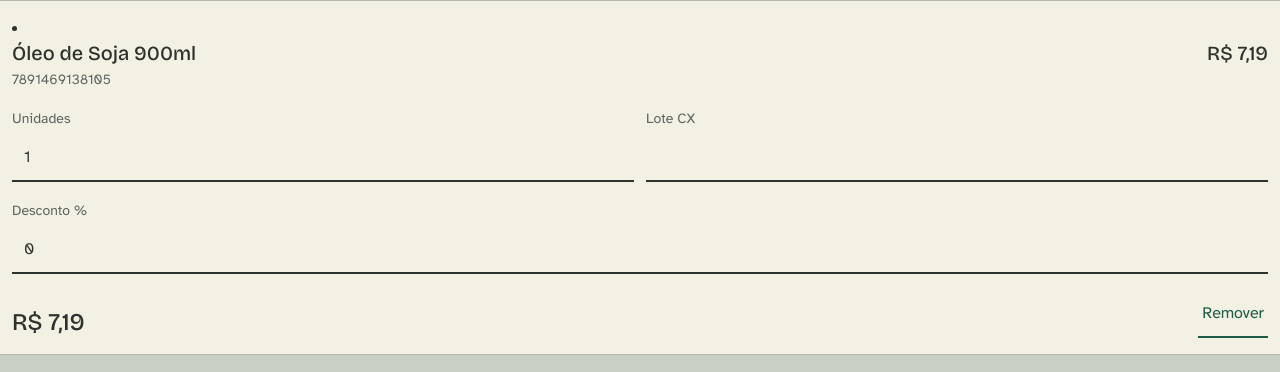
Test: CartLine › P004: 7 un deixa Lote vazio; 20 un preenche 1 CX; Lote 2 preenche 40 un
Replace the text in the field with test id "cart-units" with "7". click: [323, 158]
box: [12,134,634,182]
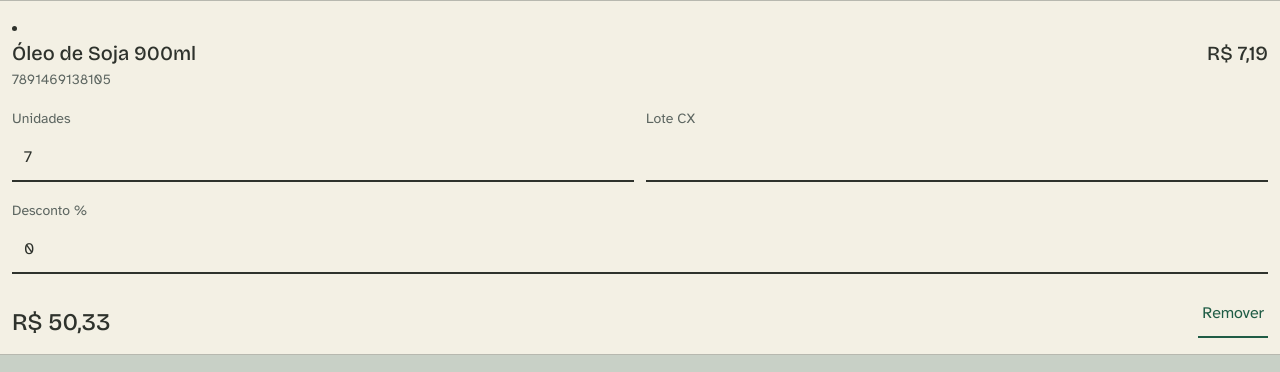
Expected: the field with test id "cart-lots" is empty, [646,134,1268,182]
Replace the text in the field with test id "cart-units" with "20". click: [323, 158]
box: [12,134,634,182]
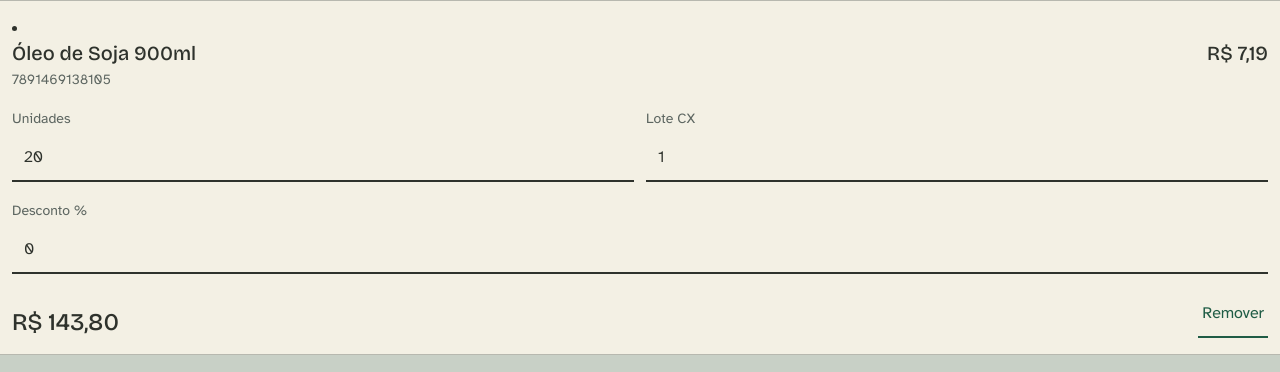
Replace the text in the field with test id "cart-lots" with "2". click: [957, 158]
box: [646,134,1268,182]
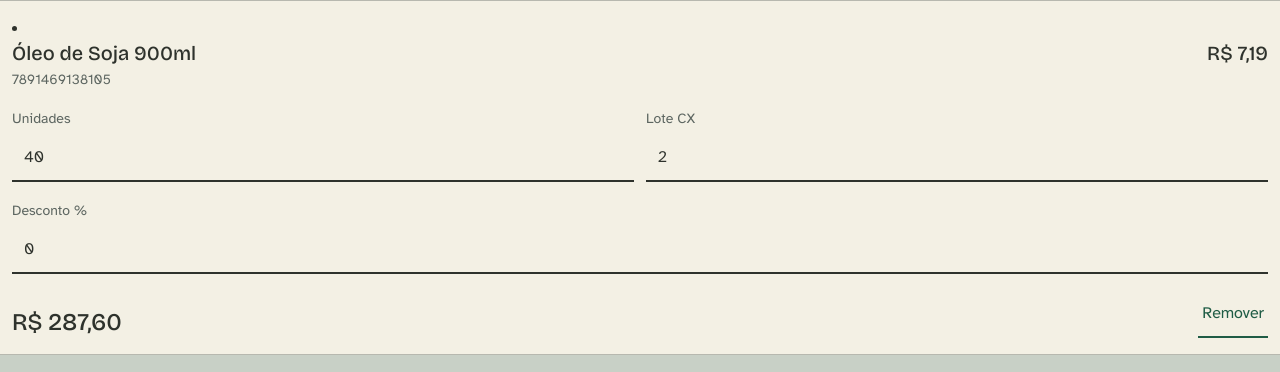
Expected: the field with test id "cart-units" holds "40", [12,134,634,182]
